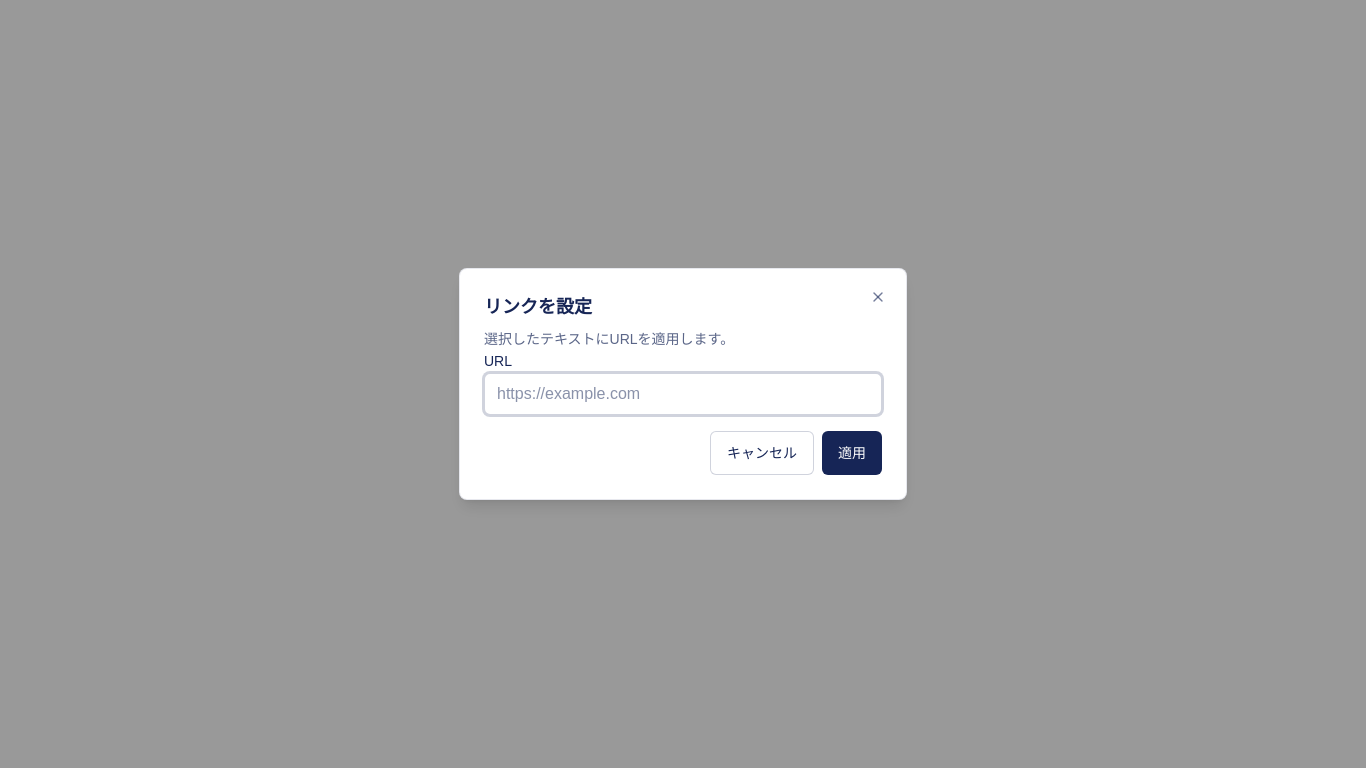
LinkDialog › shows validation message when URL is empty
Click the button "適用": (852, 453) [822,431,882,475]
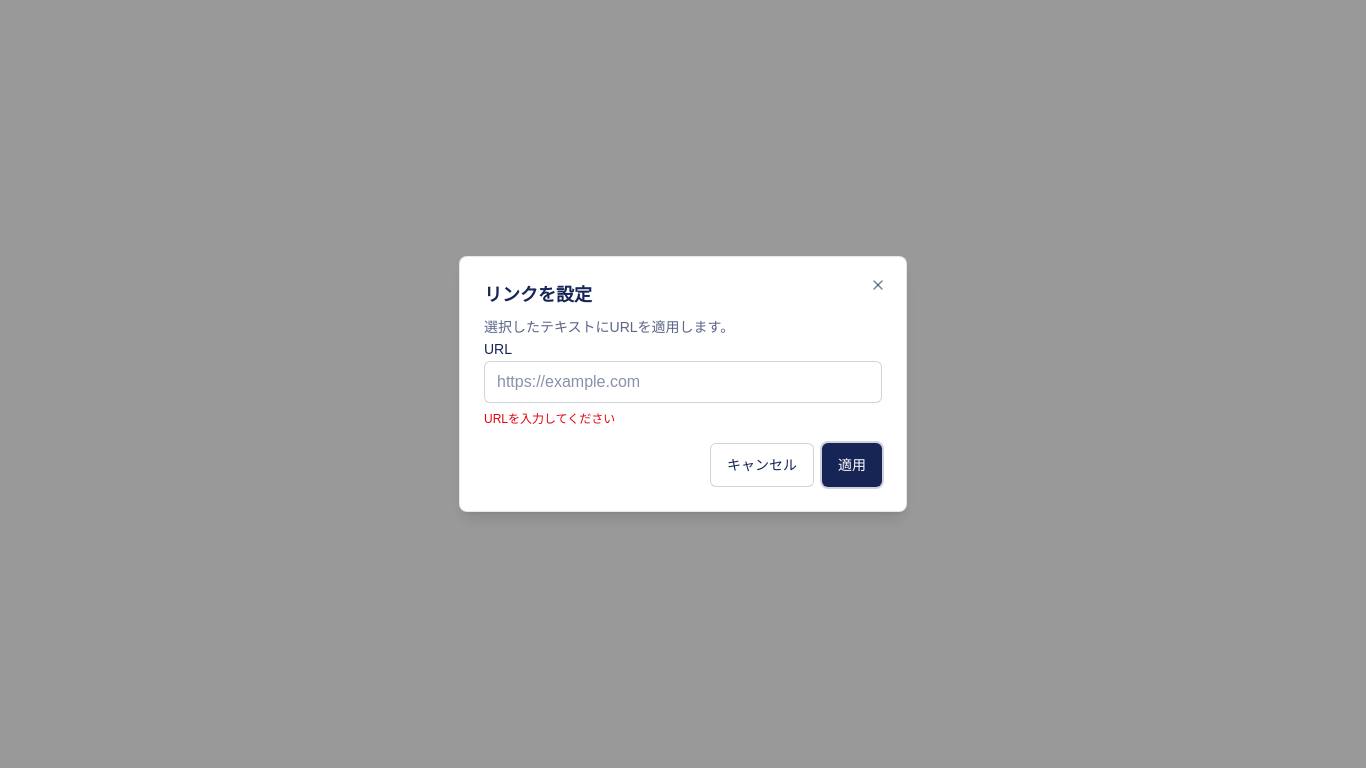
Expected: the text "URLを入力してください" is shown, [484,412,615,426]
